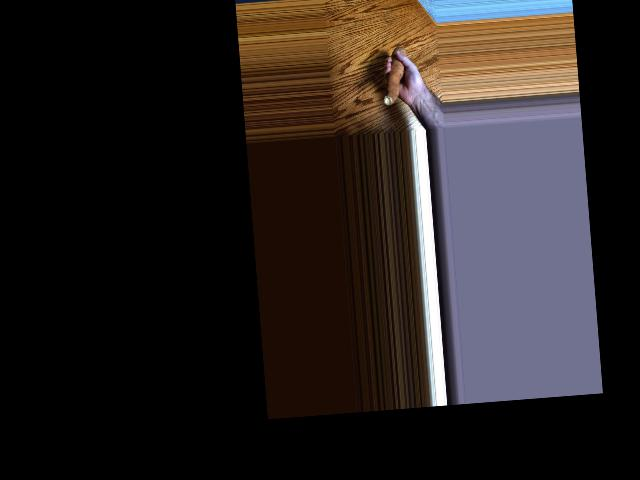sweet_potato: (380, 43, 408, 109)
